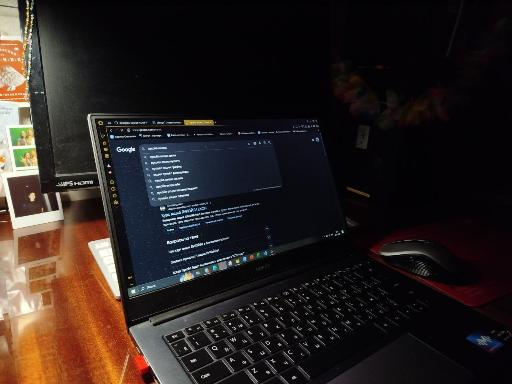google: (109, 134, 340, 263)
